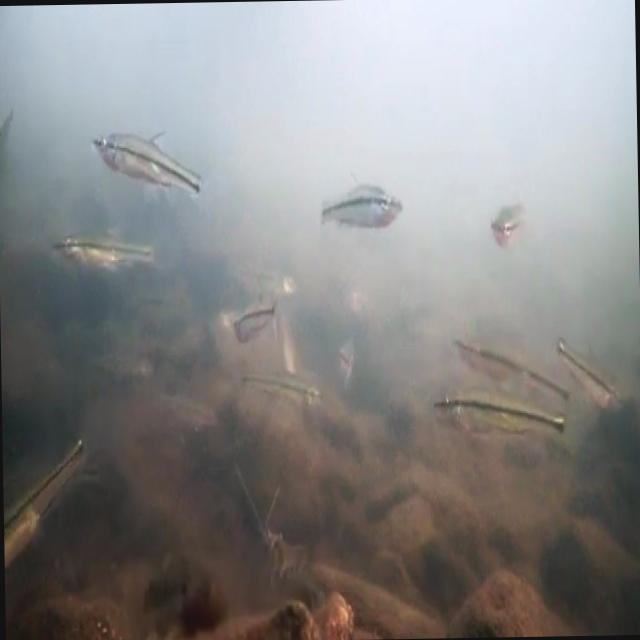Cakil Baligi: (432, 385, 575, 451), (88, 124, 205, 204), (319, 176, 406, 239), (50, 228, 161, 275), (224, 297, 287, 354), (491, 201, 534, 252)
